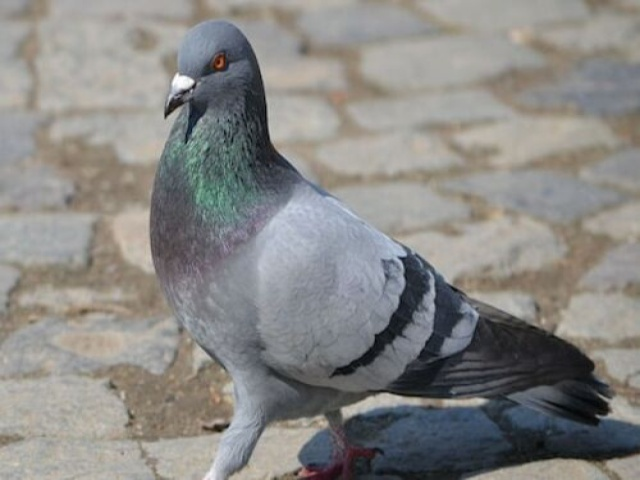Pigeon: (141, 15, 606, 480)
